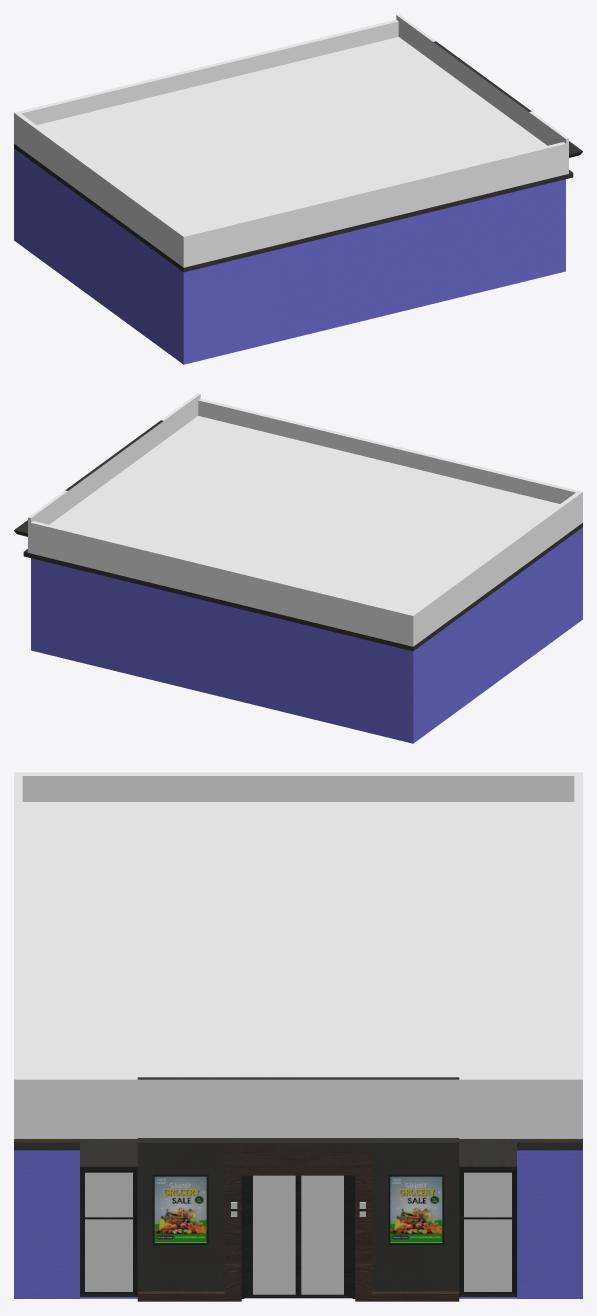
File: shop_interior.glb
The picture shows the model from 3 angles, top to bottom: view 1: azimuth 30°, elevation 25°; view 2: azimuth 150°, elevation 25°; view 3: azimuth 270°, elevation 25°; orthographic projection. The views are drawn at different scales.
Visible parts, largest first — view 1: Node1; view 2: Node1; view 3: Node1.
Part boxes in pixels (<box>): Node1: <box>14,14,582,364</box>; Node1: <box>14,393,582,743</box>; Node1: <box>14,772,582,1301</box>.
Bounding box in the file's own units: 77.03 × 23.24 × 54.05.
14 materials, 10 textured.
